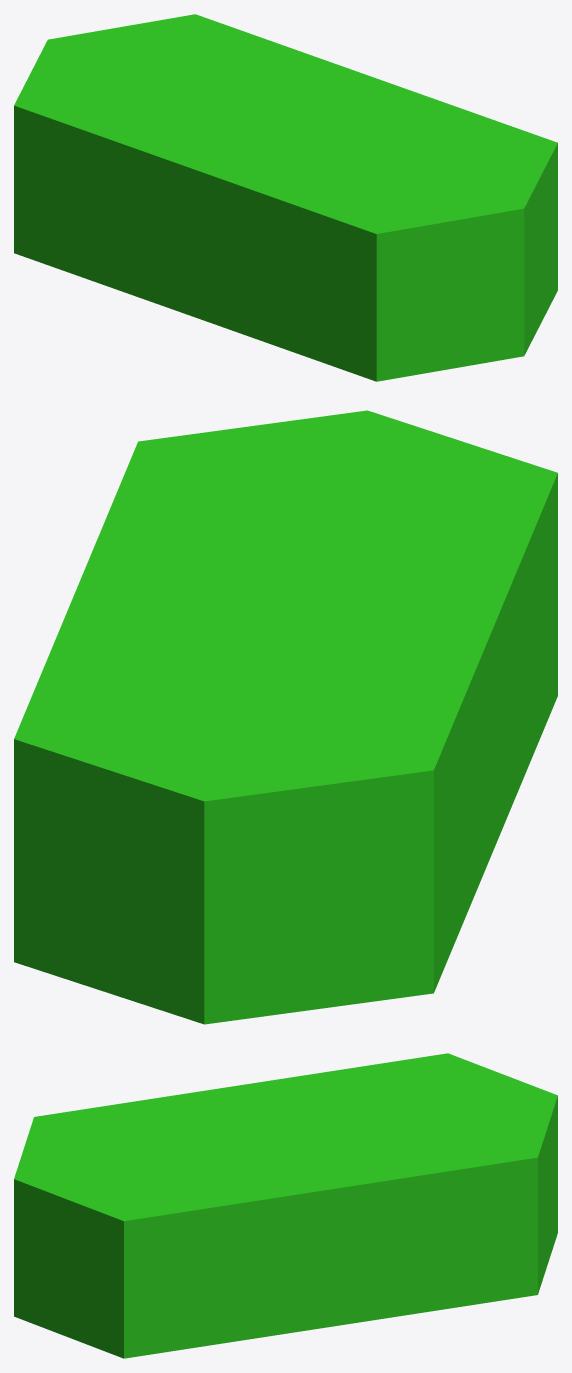
File: NormalContent.fbx
3 views of the same model, one above another, from view 1: azimuth 30°, elevation 25°; view 2: azimuth 150°, elevation 25°; view 3: azimuth 270°, elevation 25° (orthographic). The views are drawn at different scales.
Parts seen in each view (by area): view 1: Model; view 2: Model; view 3: Model.
Part boxes in pixels (x1,y1,x2,y2): Model: [14, 14, 557, 381]; Model: [14, 410, 557, 1024]; Model: [14, 1053, 557, 1358].
Size of what is drawn, in the model's own units: 0.8073 by 0.308 by 1.1.
